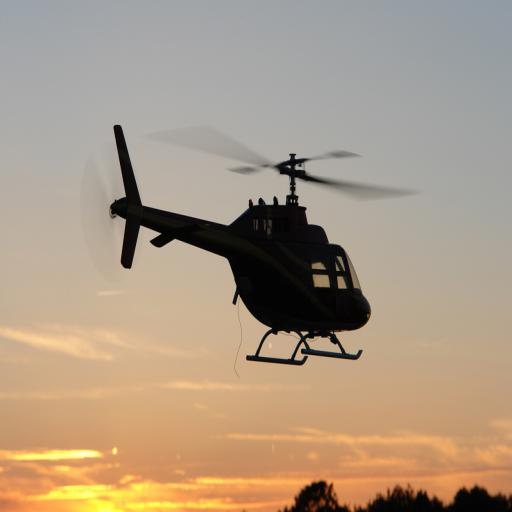helicopter: (87, 122, 418, 363)
